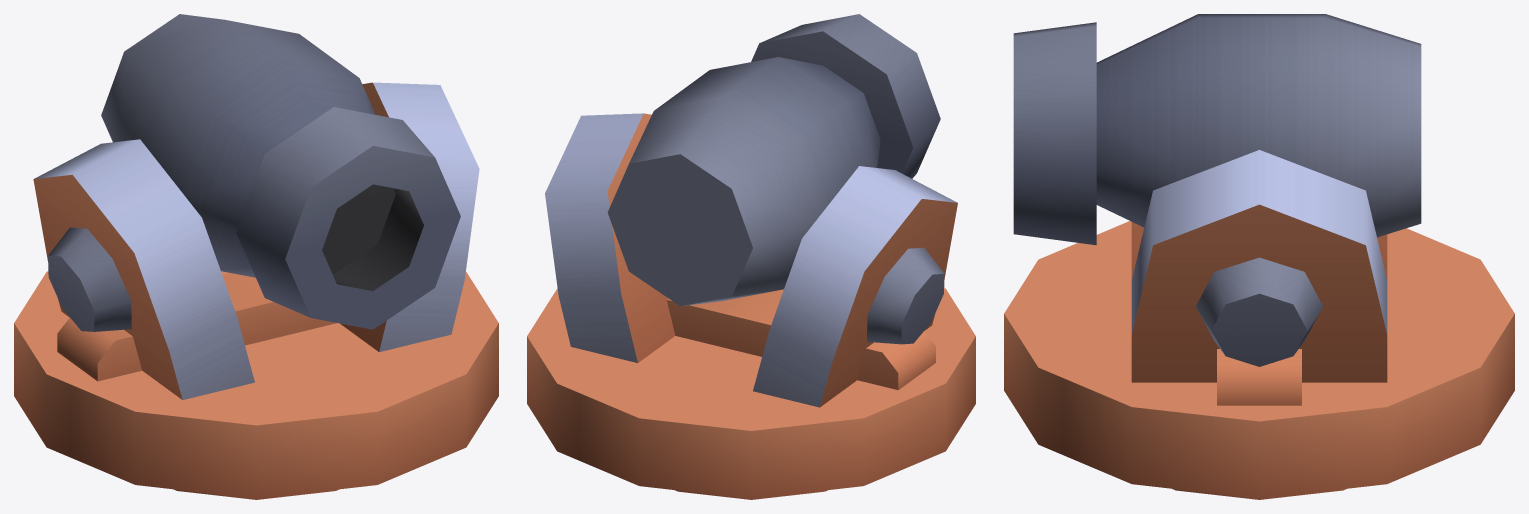
Rendered from cc0-weapon-cannon-lod0.glb.
The picture shows the model from 3 angles, left to right: view 1: azimuth 30°, elevation 25°; view 2: azimuth 150°, elevation 25°; view 3: azimuth 270°, elevation 25°; orthographic projection. The views are drawn at different scales.
Visible parts, largest first — view 1: part_0; view 2: part_0; view 3: part_0.
Boxes of the visible parts, x1=… form: part_0: x1=14, y1=14, x2=498, y2=499; part_0: x1=527, y1=14, x2=975, y2=499; part_0: x1=1004, y1=14, x2=1514, y2=499.
Size of the model in its own units: 0.6 by 0.5328 by 0.6.
Materials: 1 (1 with a texture image).
